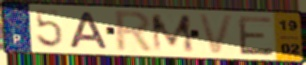5: (34, 8, 66, 50)
A: (67, 11, 110, 50)
E: (236, 15, 275, 58)
M: (149, 13, 197, 54)
R: (114, 10, 156, 55)
V: (196, 13, 237, 57)
